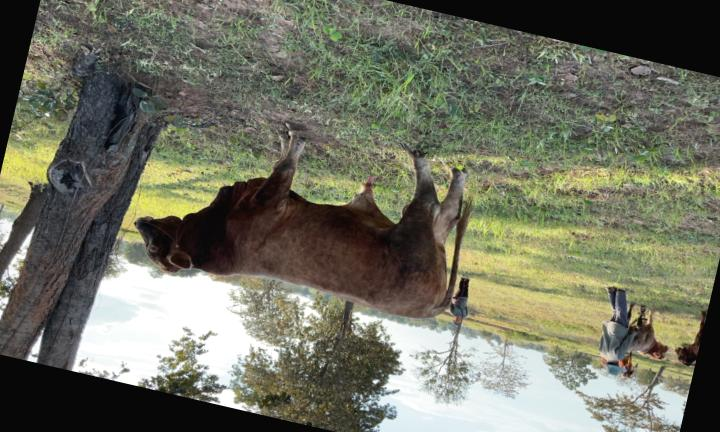Charolais: (135, 127, 471, 319)
